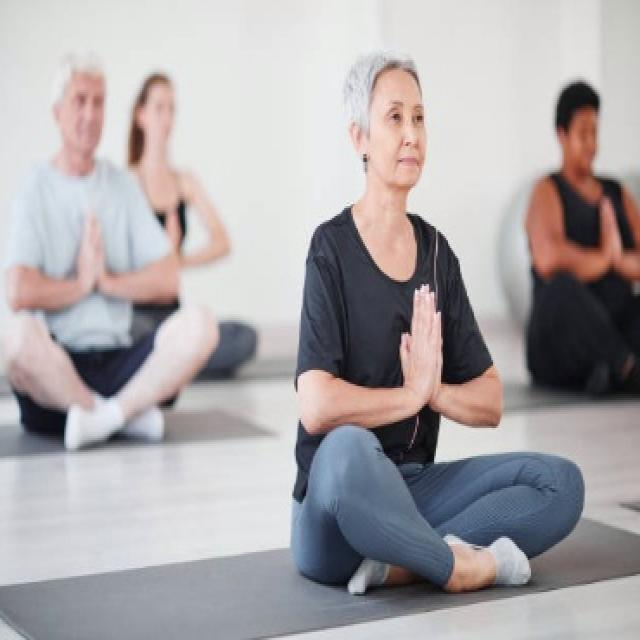adult: (248, 46, 564, 591), (0, 48, 180, 416), (528, 72, 640, 390)
